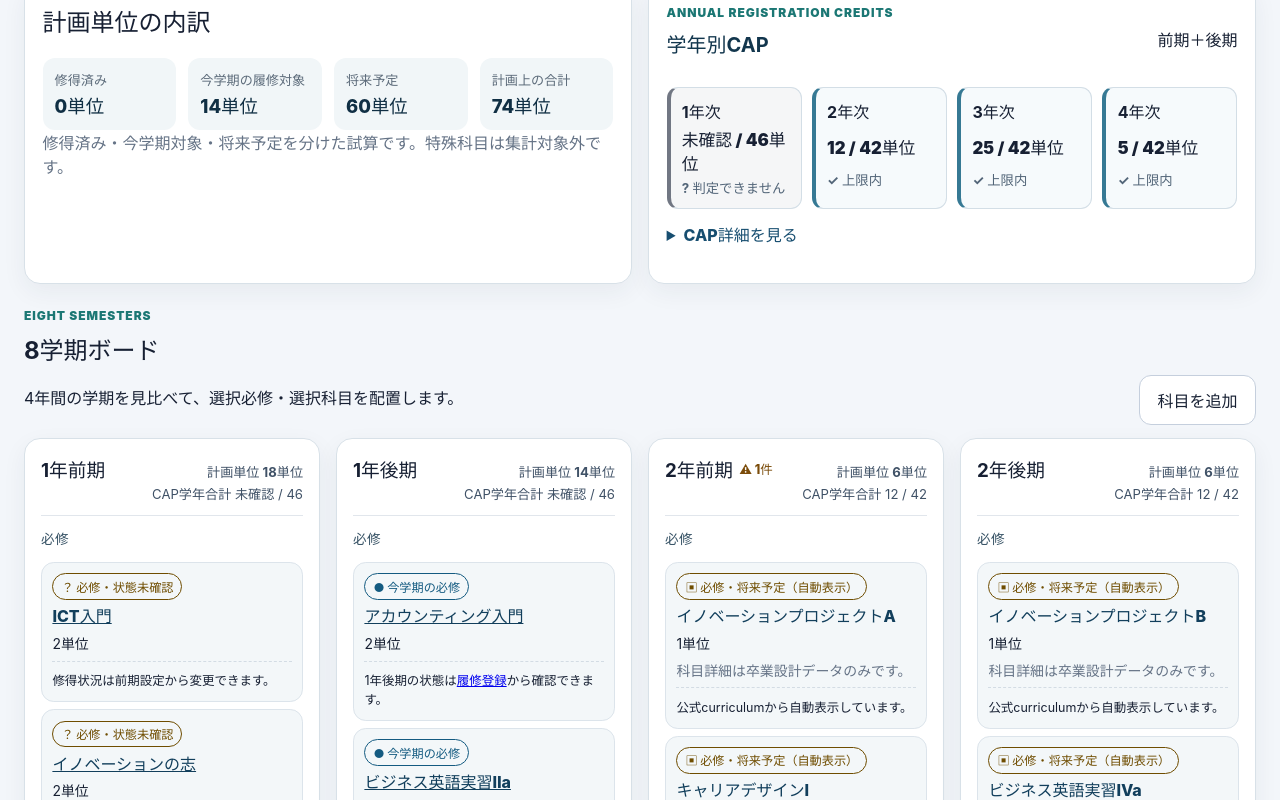
Test: Phase 15A required course UI › 自動必修を非編集カードとして表示し通常検索に出さない
(page scrolled)
Click the button "科目を追加" at [1197, 400], box [1139,376,1256,426]
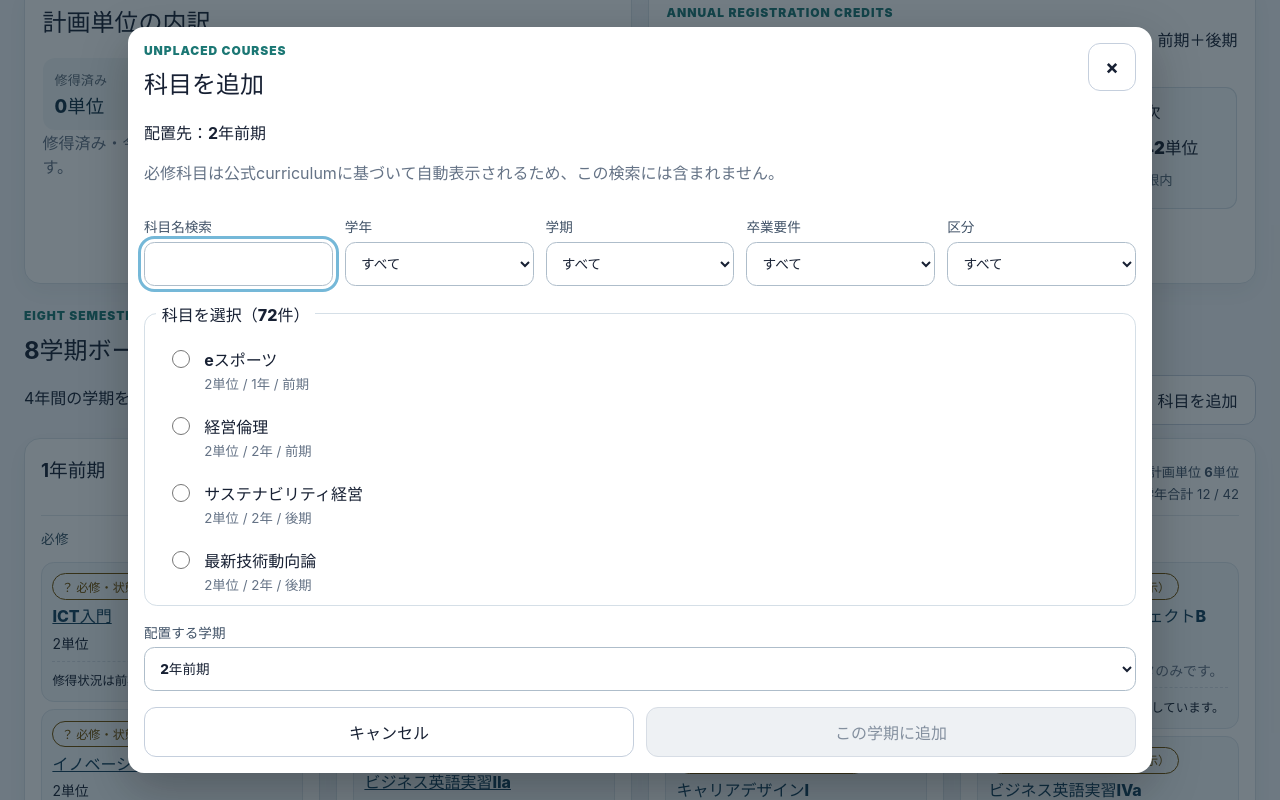
Type "基礎プロジェクトⅠ" into the search field labelled "科目名検索" at [238, 264], box [144,242,333,286]
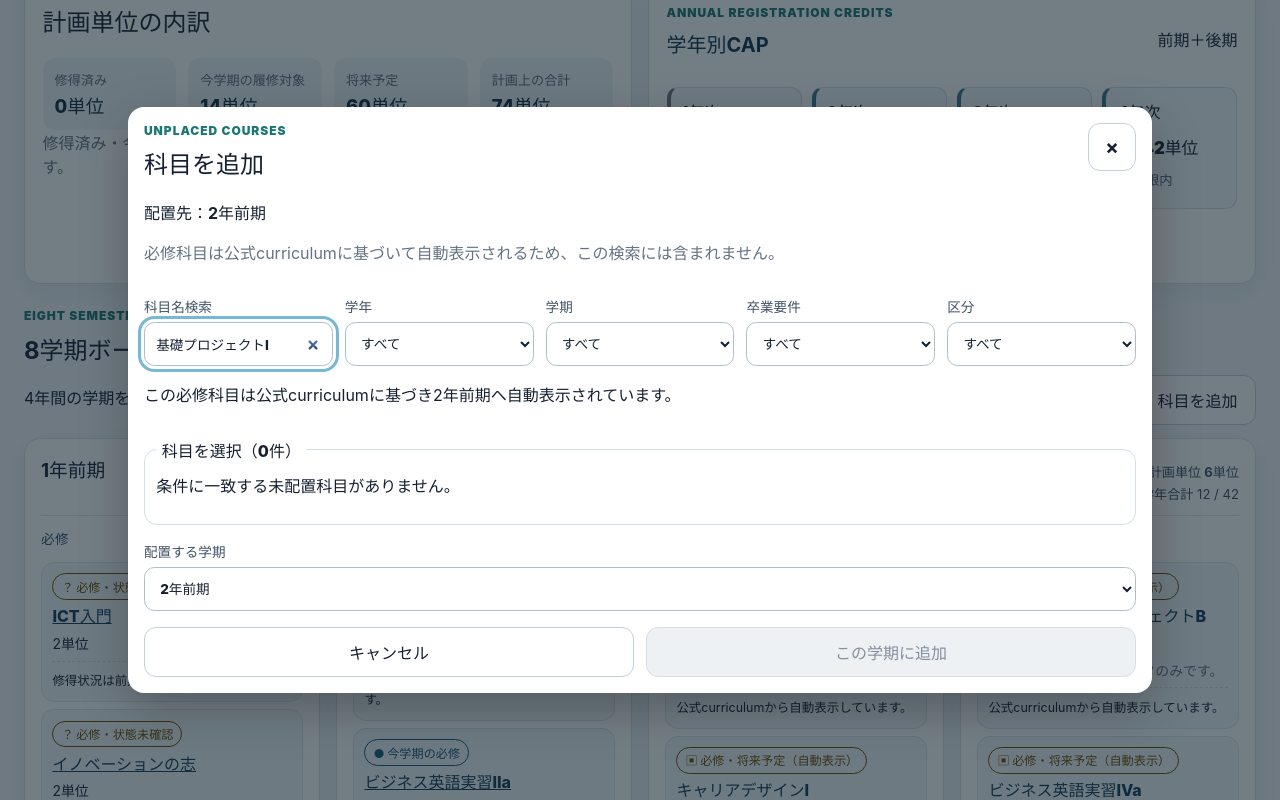
Expected: the text "公式curriculumに基づき2年前期へ自動表示" is shown, [144,385,681,405]
